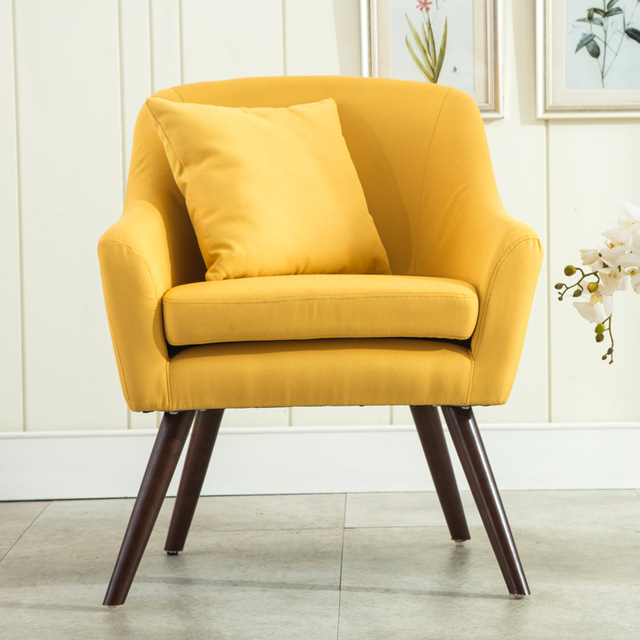chairs: (93, 71, 538, 608)
